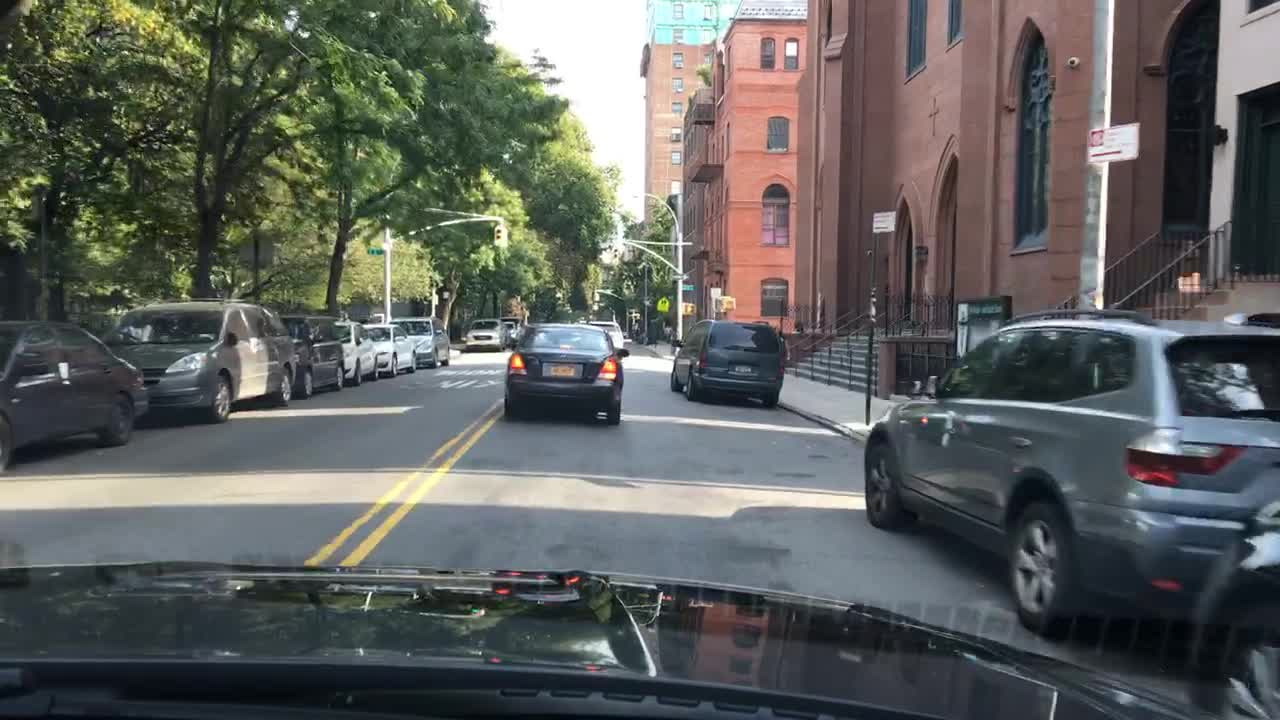car: (858, 306, 1278, 641), (97, 296, 296, 423), (0, 316, 151, 475), (1184, 491, 1278, 710), (502, 322, 630, 423), (667, 317, 788, 406), (286, 308, 352, 400), (388, 313, 450, 366), (361, 319, 420, 372), (333, 319, 379, 384), (462, 318, 509, 352), (585, 317, 628, 346), (494, 319, 521, 346), (503, 314, 526, 334)
traffic light: (491, 225, 509, 247), (718, 293, 733, 313), (681, 300, 697, 317)
traffic sign: (1086, 126, 1138, 163), (871, 212, 894, 233), (362, 244, 385, 257), (657, 296, 672, 311), (668, 271, 687, 280), (679, 283, 694, 293)
